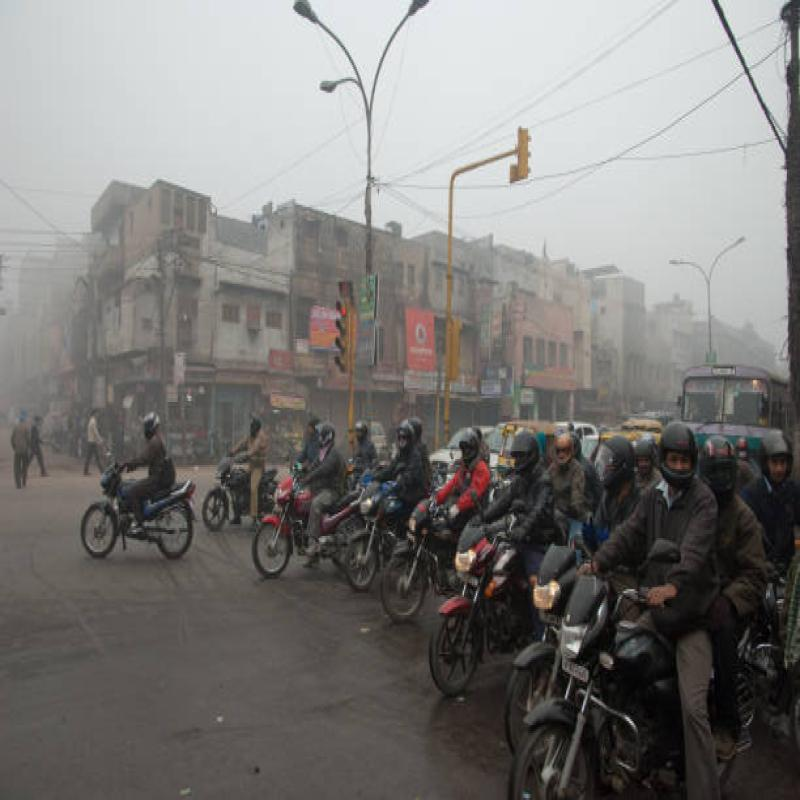bike: (558, 582, 765, 760), (449, 530, 539, 652), (82, 487, 188, 555), (260, 483, 337, 568)
